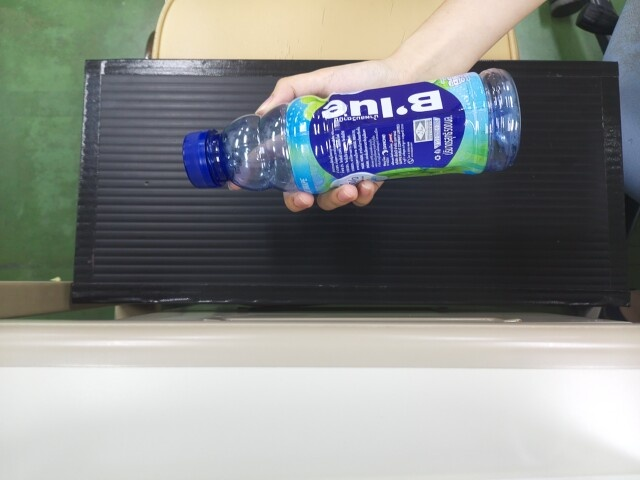plastic_bottle: (178, 81, 524, 183)
